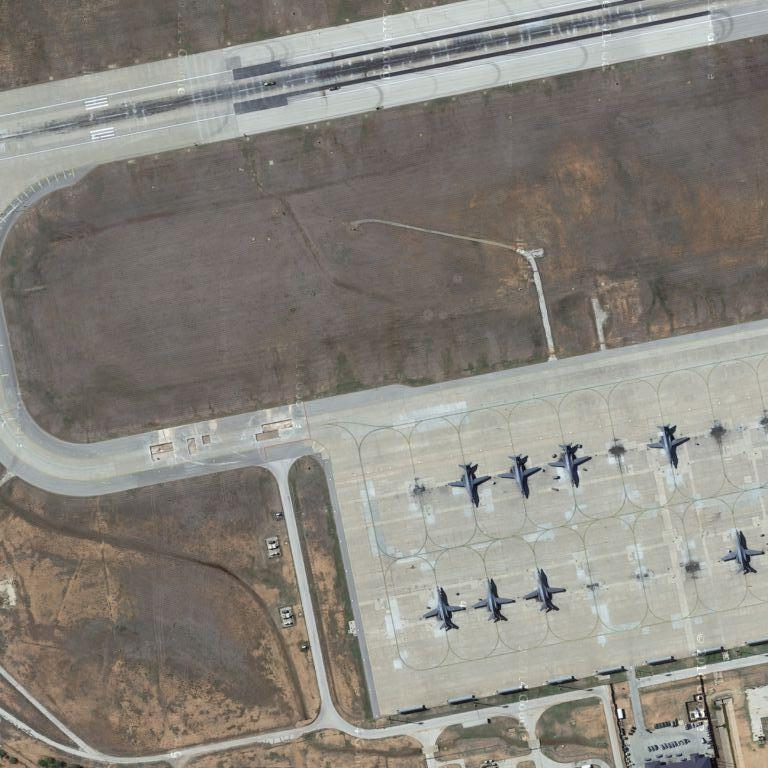B-1B: (541, 437, 596, 491), (495, 450, 547, 502), (444, 457, 494, 511), (645, 418, 694, 473), (419, 584, 469, 637), (522, 565, 569, 620), (719, 529, 766, 582), (469, 577, 516, 627)
